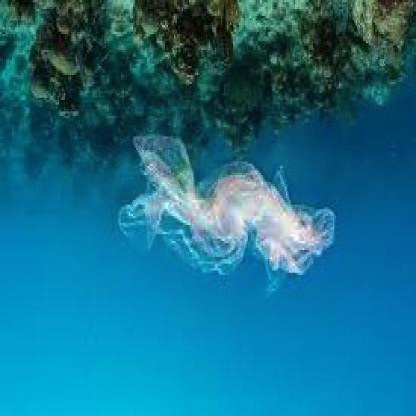pbag: (118, 132, 336, 295)
